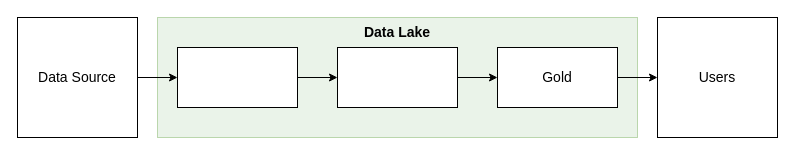
This 795x155 diagram has some shape labels left out. The box of each missing label's shape, as (x1, y1, x2, y2) in pixels:
Bronze: (176, 46, 298, 108)
Silver: (336, 46, 458, 108)
